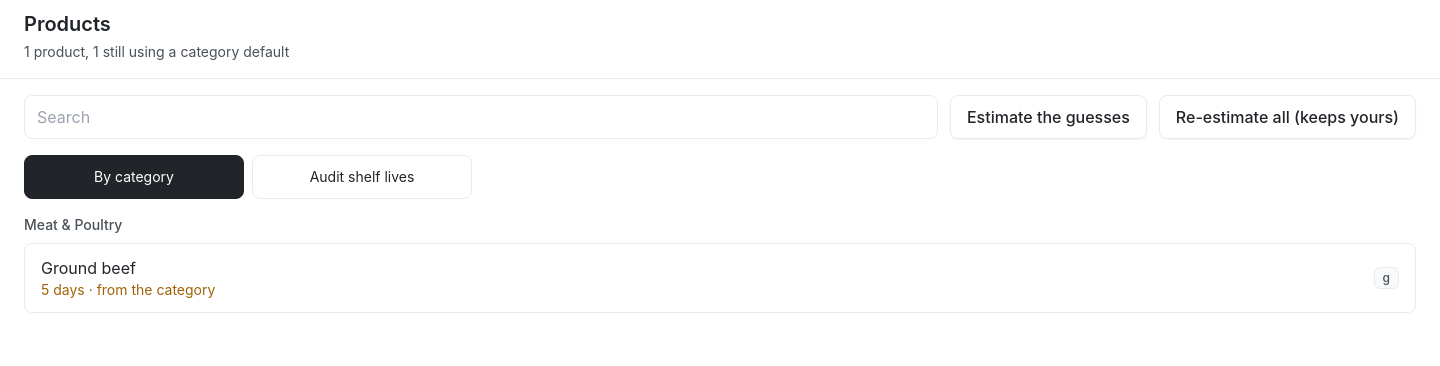
Test case: ProductsPage › says so when the model agreed with everything already stored
This screenshot has width=1440, height=366.
What coordinates should you click on to do the following:
click the button "Estimate the guesses"
I would click on:
 (1048, 117)
Its box is [950, 95, 1147, 139].
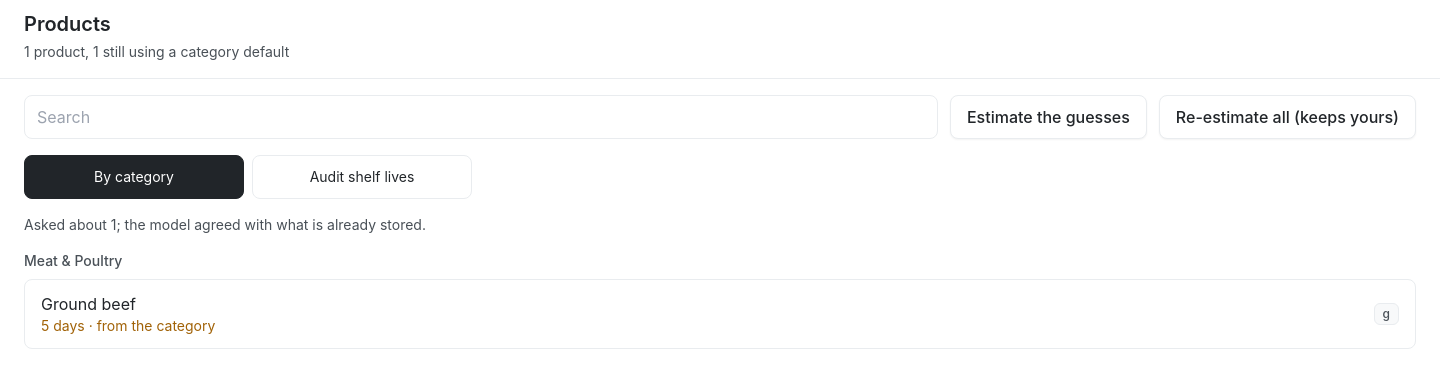
Result: the message shows "agreed with what is already stored" at [24, 216, 426, 233]
